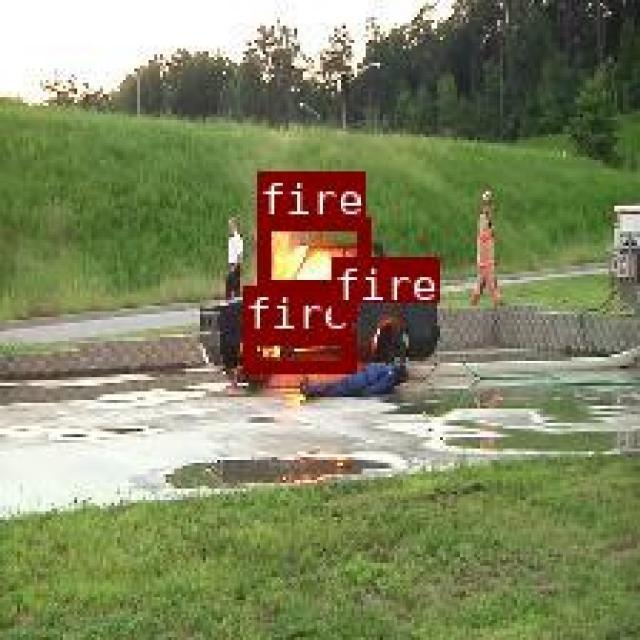fire: (257, 217, 367, 289), (241, 331, 353, 371), (330, 301, 352, 319)
